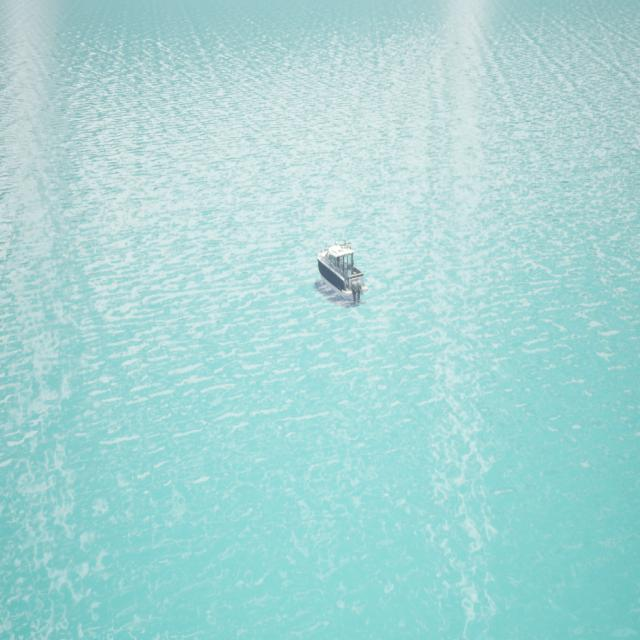ship: (317, 242, 366, 308)
